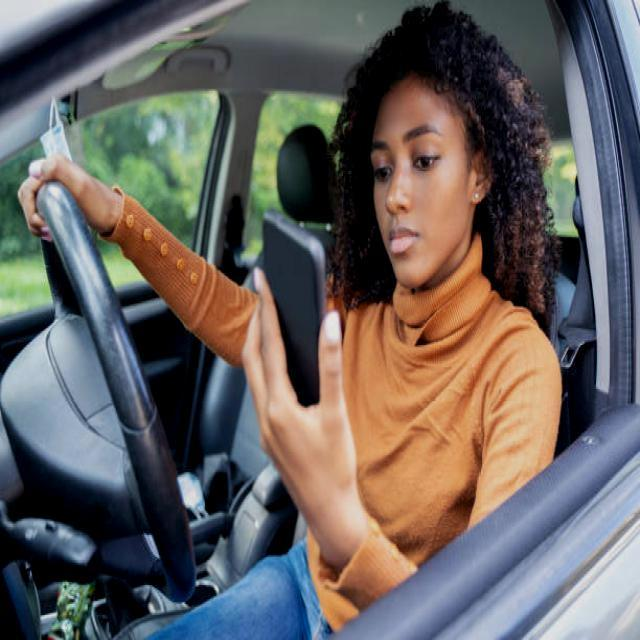Looking away: (371, 82, 469, 286)
